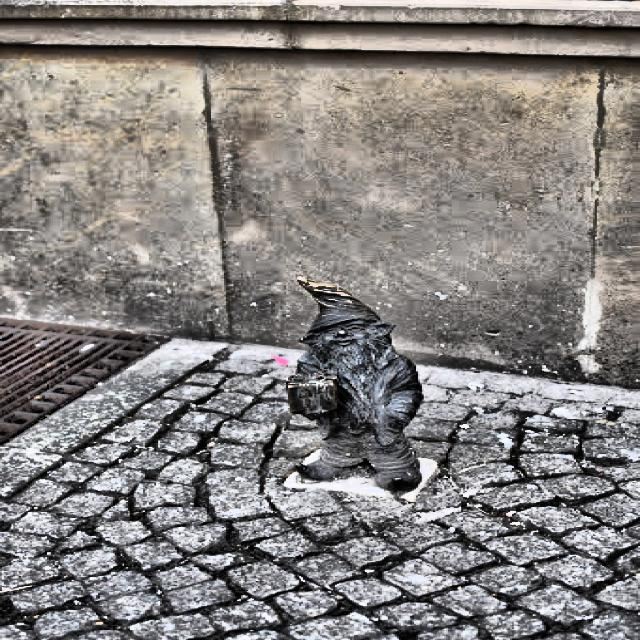Suvenirek: (289, 279, 422, 492)
